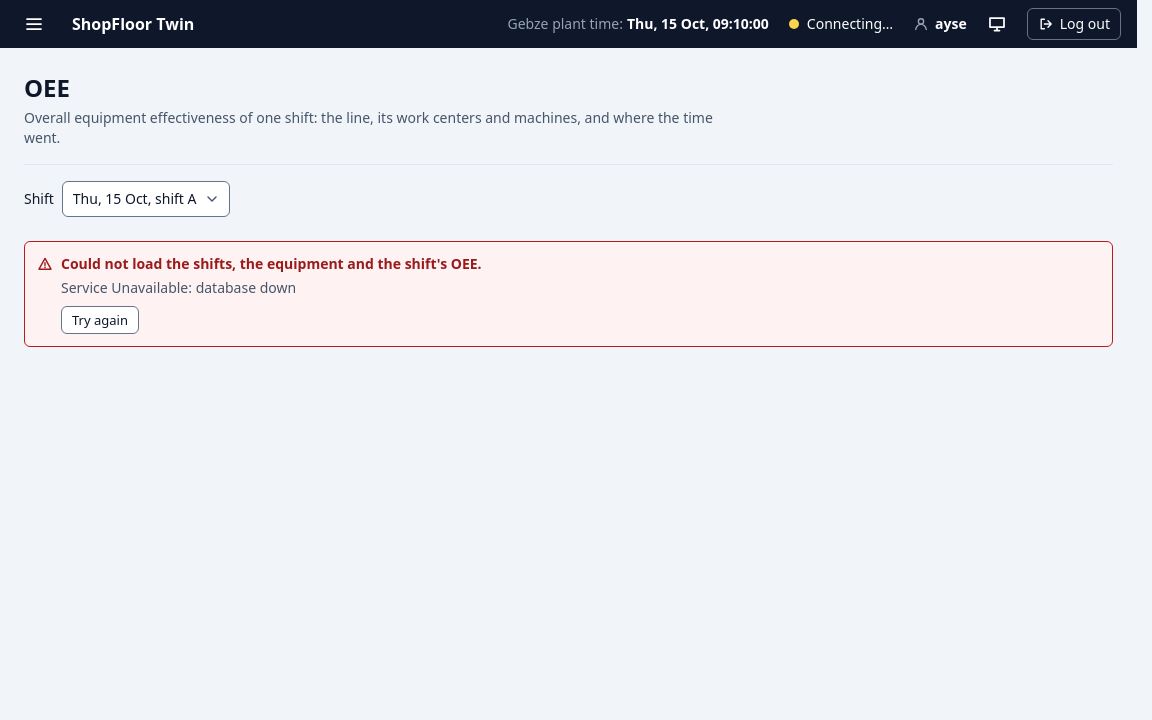
Scenario: OEE dashboard › says one error when every read of the screen fails, and one retry reads them all (#394)
Expected: the 2nd message shows "Could not load the shifts, the equipment and the shift's OEE.", [61,254,482,273]
Expected: the text "Service Unavailable: database down" is shown once, [61,278,296,297]
Click the button "Try again" at coordinates (100, 320), box [61,306,139,334]
(page scrolled)
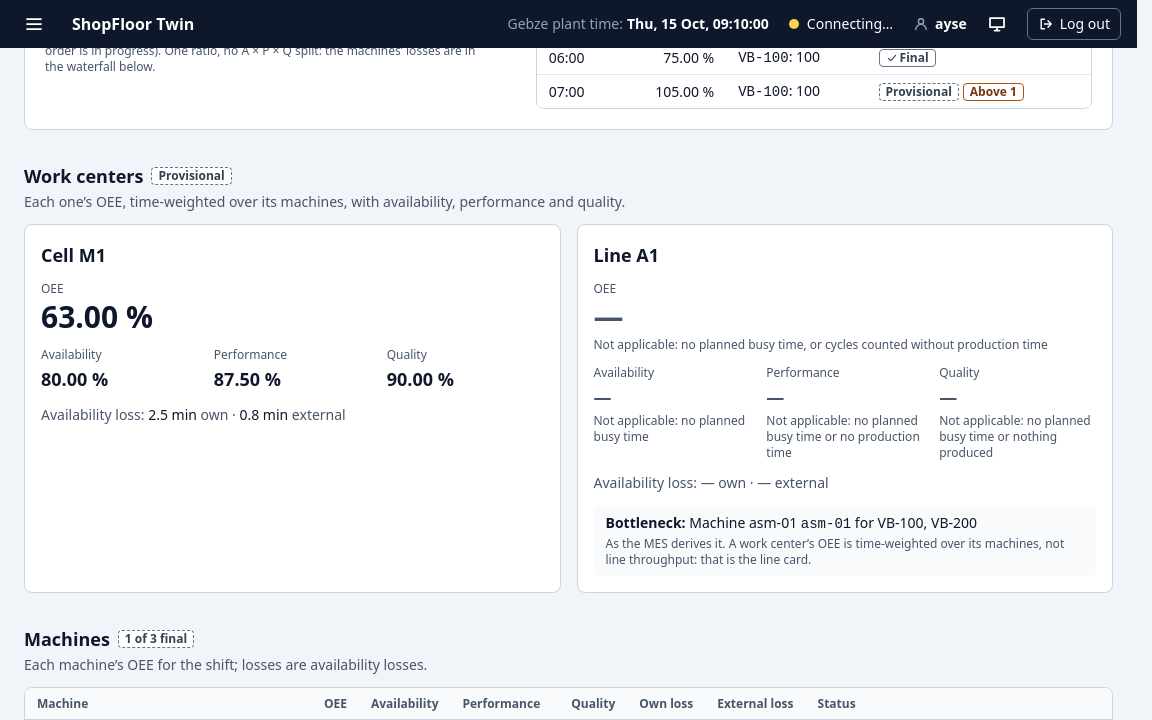
Now the element with test id "oee-card-cell-m1" is shown, box [24,224,560,593]
